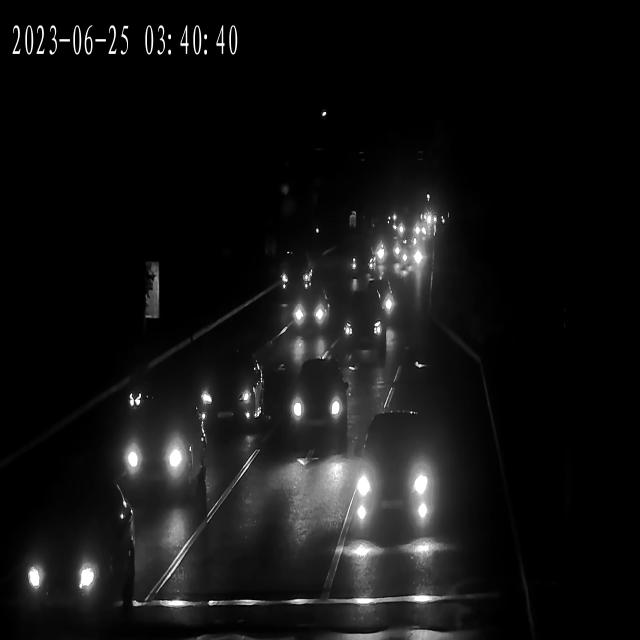Car: (12, 485, 138, 630), (132, 382, 209, 503), (201, 354, 268, 443), (285, 374, 350, 463), (280, 283, 333, 346), (345, 289, 389, 360), (352, 240, 386, 275), (280, 255, 314, 289), (398, 225, 426, 257), (393, 256, 412, 274), (411, 251, 430, 265)
